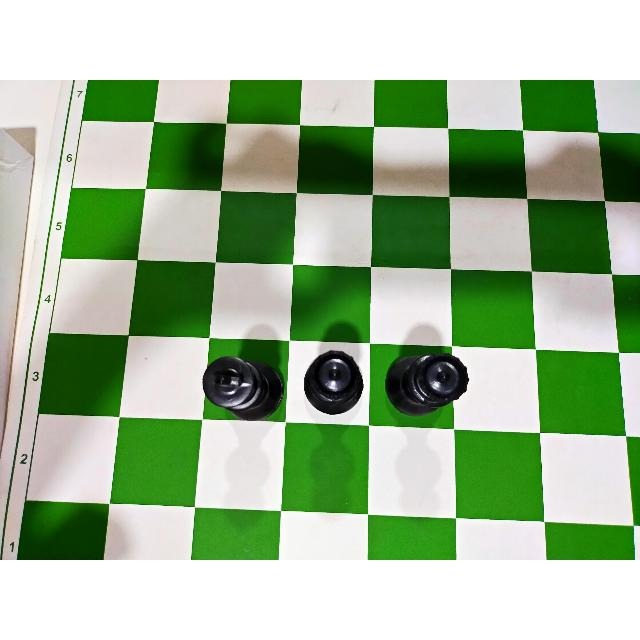black-king: (196, 350, 288, 425)
black-queen: (381, 349, 472, 421), (299, 346, 365, 418)
